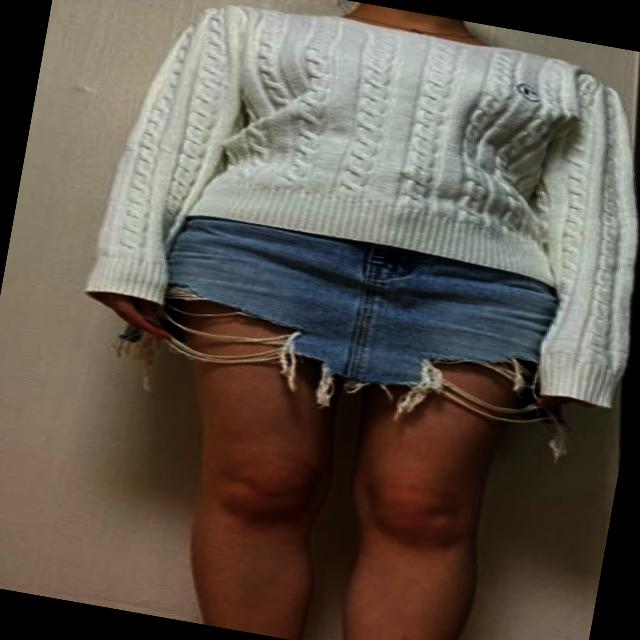skirt: (146, 202, 560, 428)
sweater: (79, 0, 640, 394)
